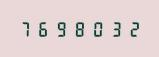eight: (71, 20, 88, 37)
nine: (53, 20, 70, 37)
seven: (17, 20, 34, 37)
six: (35, 20, 52, 37)
three: (107, 20, 124, 37)
two: (125, 20, 142, 37)
zero: (89, 20, 106, 37)
